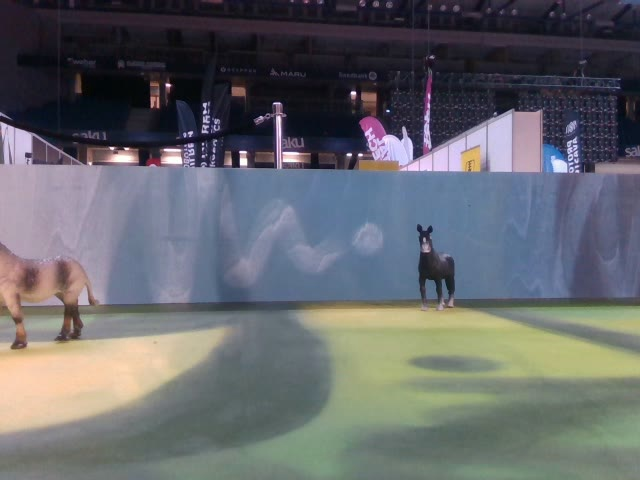toy: (416, 223, 457, 311)
